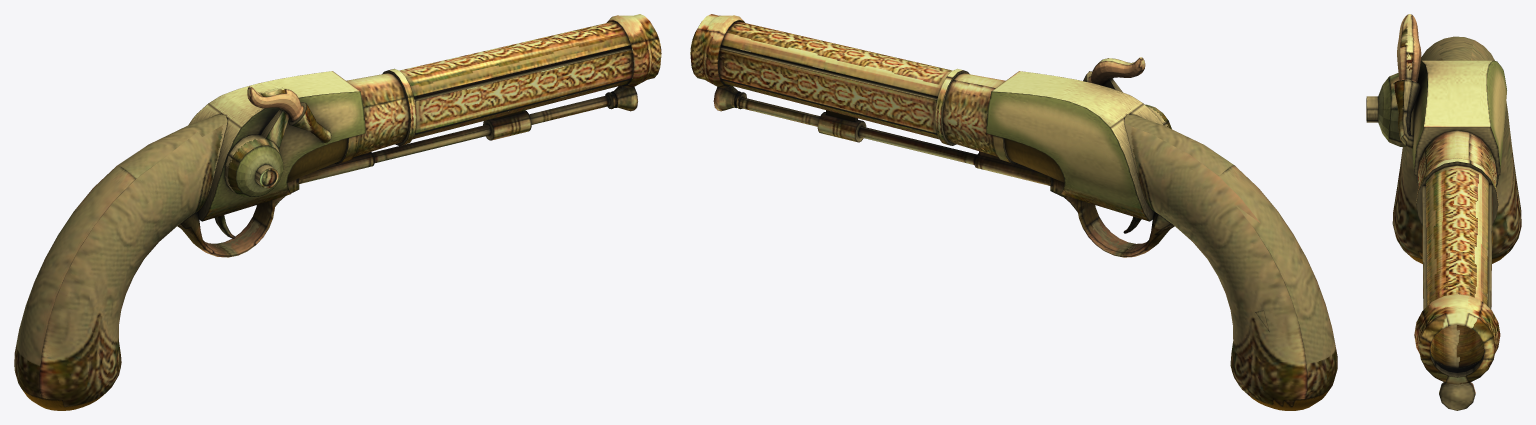
File: Old Gun.FBX
3 views of the same model, side by side, from view 1: azimuth 30°, elevation 25°; view 2: azimuth 150°, elevation 25°; view 3: azimuth 270°, elevation 25° (orthographic). The views are drawn at different scales.
Parts seen in each view (by area): view 1: polySurface1; view 2: polySurface1; view 3: polySurface1.
Boxes of the visible parts, x1,y1,x2,y2 form: polySurface1: (14, 14, 661, 410); polySurface1: (690, 14, 1337, 410); polySurface1: (1366, 14, 1521, 410).
Size of the model in its own units: 660 by 293 by 117.
